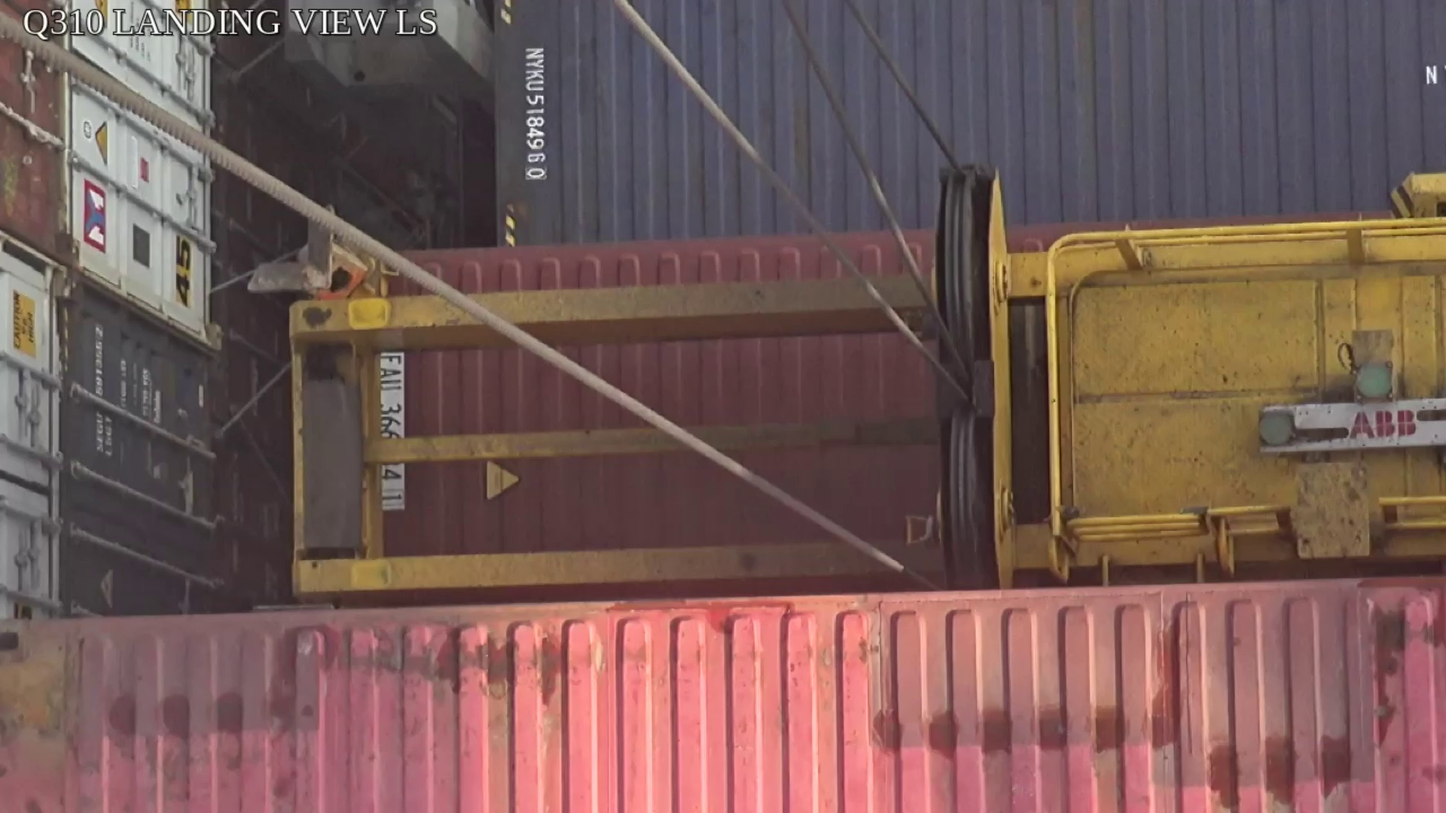aa: (933, 163, 1019, 589)
